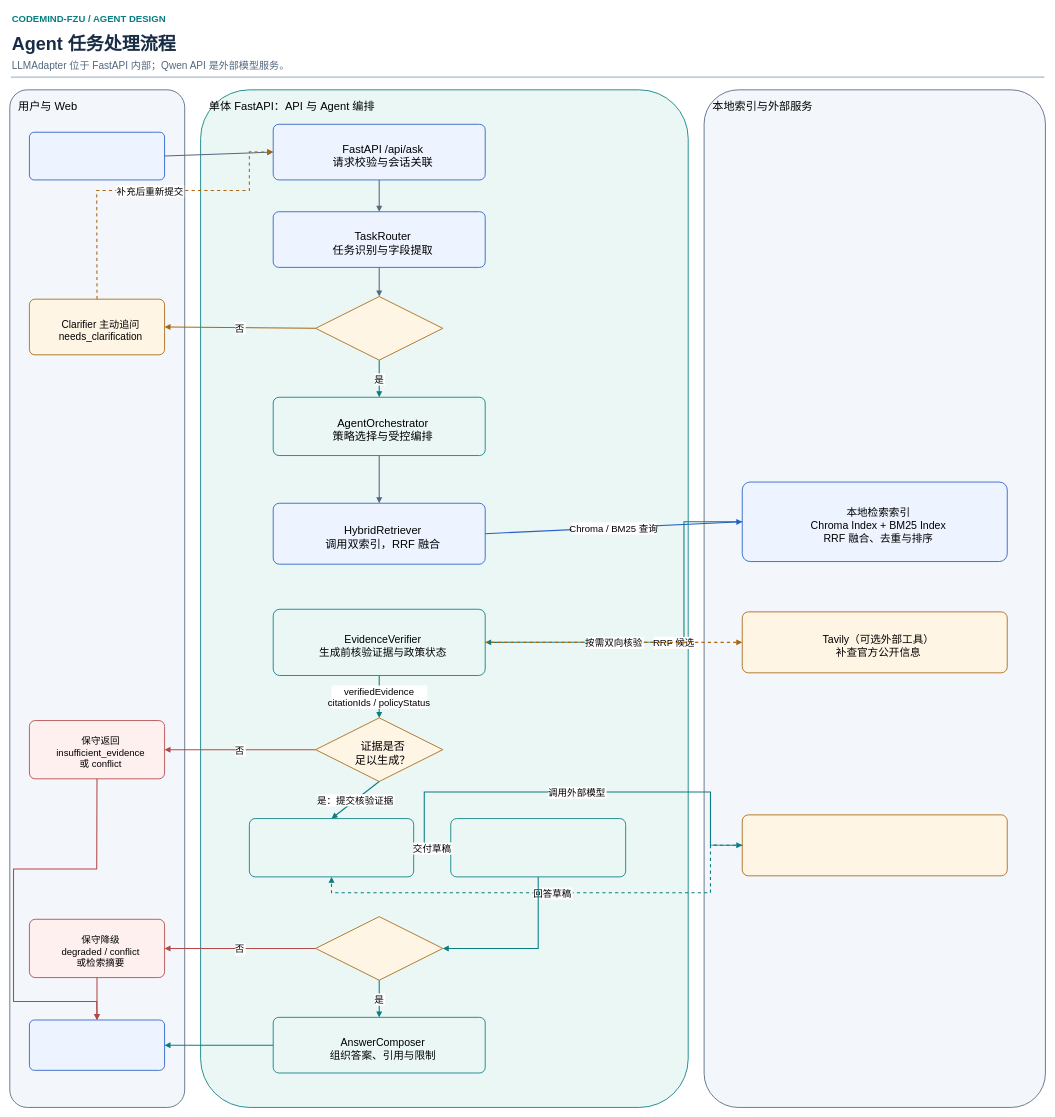
Image size: 1055x1117. Some labels were removed from this diagram. Each missing label, with the centre of its shape:
"AnswerVerifier 生成后复核回答与引用" belongs at point (538, 847).
"LLMAdapter FastAPI 内部模型适配" belongs at point (331, 847).
"Qwen API 外部模型服务" belongs at point (874, 845).
"Web 展示结果 及 answerStatus" belongs at point (97, 1044).
"关键信息 是否完整？" belongs at point (379, 328).
"回答复核 是否通过？" belongs at point (379, 948).
"学生提交问题" belongs at point (97, 156).
